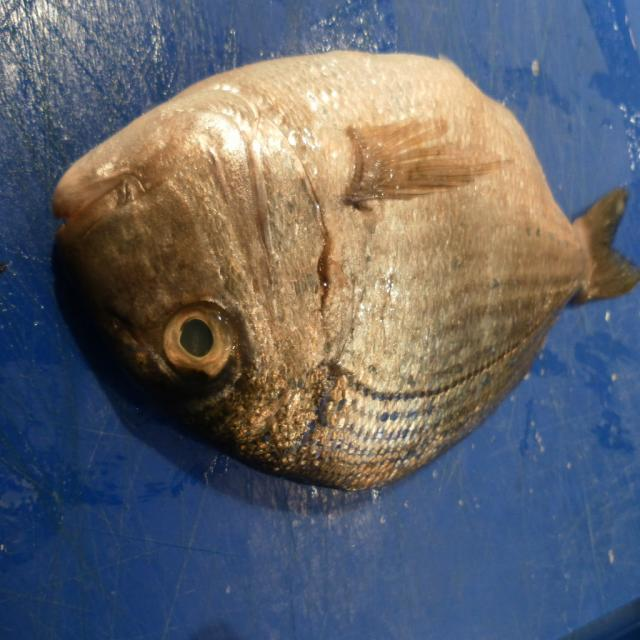Red-Sea-Bream-mercan-: (51, 50, 640, 496)
